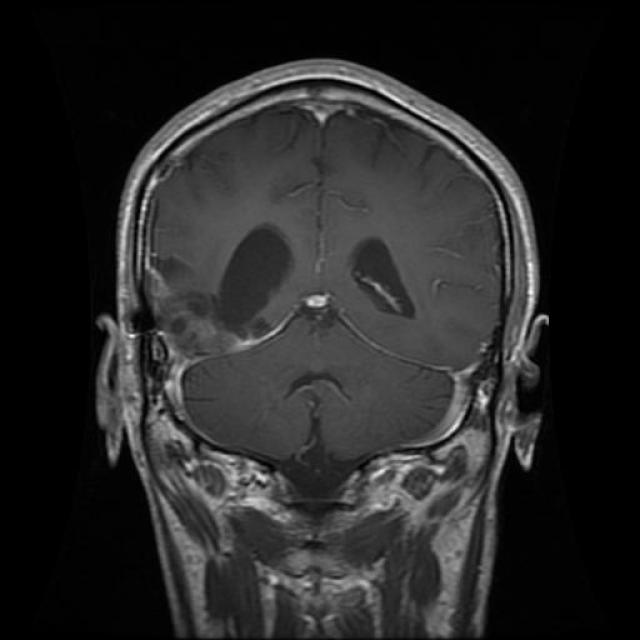glioma: (214, 220, 298, 335), (348, 229, 428, 330)
